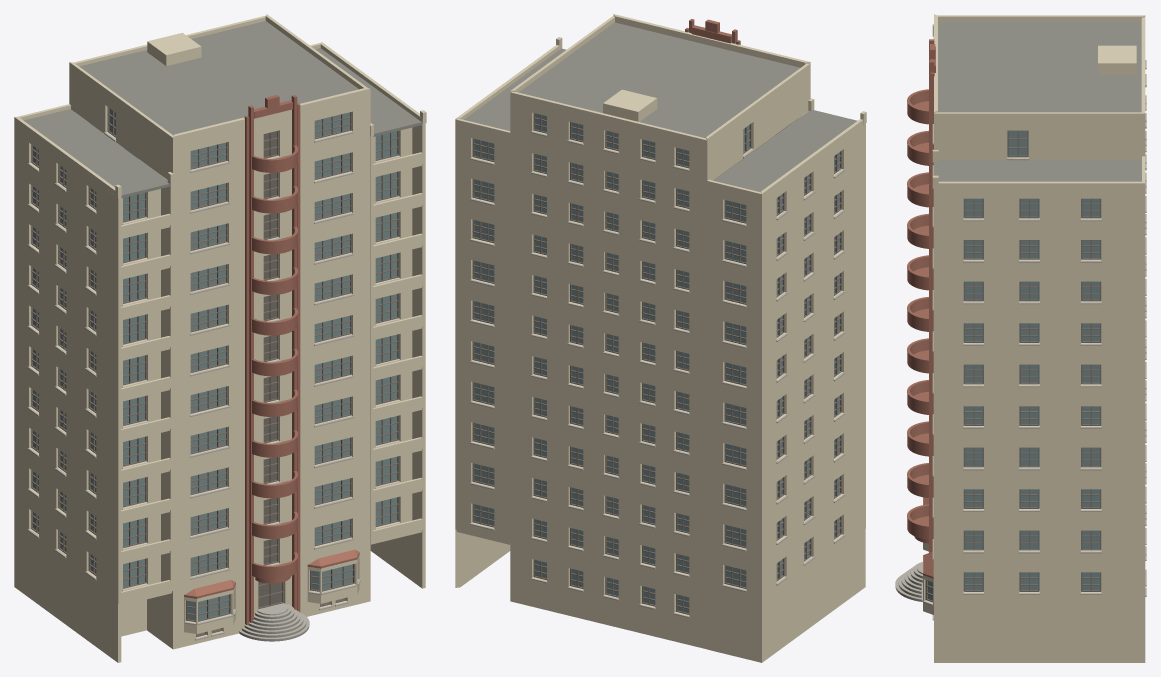
File: xuhui-willow-court-raw.glb
The picture shows the model from 3 angles, left to right: view 1: azimuth 30°, elevation 25°; view 2: azimuth 150°, elevation 25°; view 3: azimuth 270°, elevation 25°; orthographic projection. The views are drawn at different scales.
Visible parts, largest first — view 1: 会乐精舍（卫乐公寓）; view 2: 会乐精舍（卫乐公寓）; view 3: 会乐精舍（卫乐公寓）.
Boxes of the visible parts, bbox=[...] form: 会乐精舍（卫乐公寓）: bbox=[14, 14, 426, 662]; 会乐精舍（卫乐公寓）: bbox=[455, 14, 866, 662]; 会乐精舍（卫乐公寓）: bbox=[895, 14, 1146, 662].
Size of the model in its own units: 24.54 by 40.02 by 16.92.
